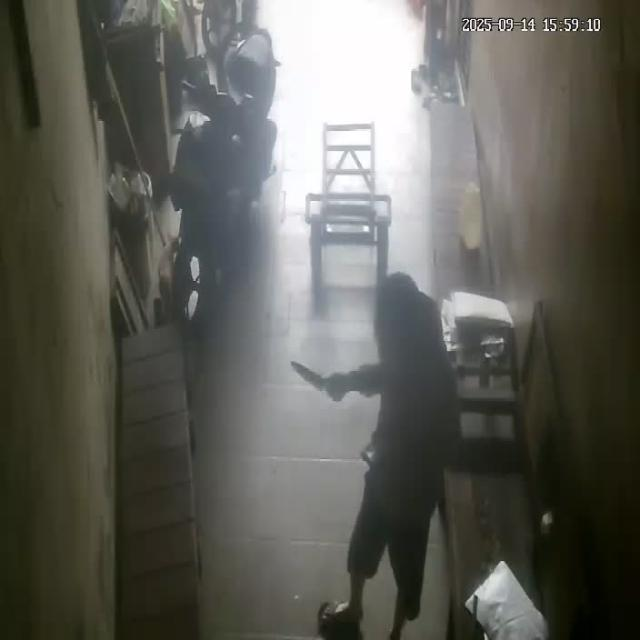senjata_tajam: (290, 359, 326, 394)
